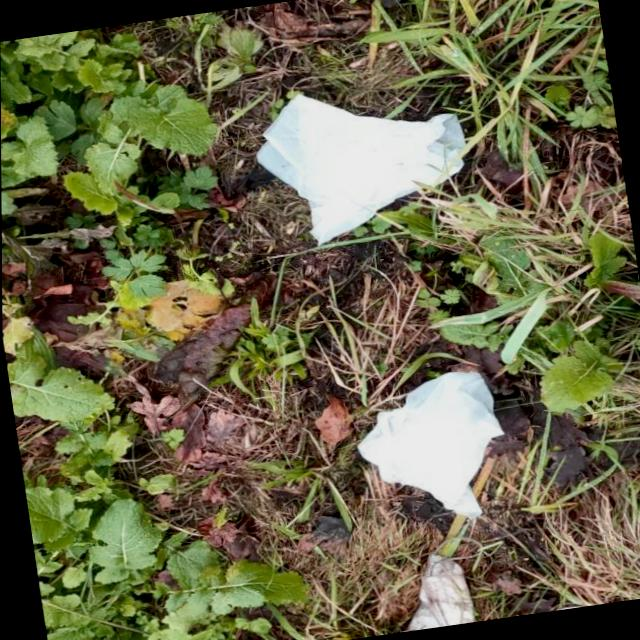Mask: (372, 532, 492, 634)
Paper: (244, 70, 479, 256), (344, 366, 517, 538)
